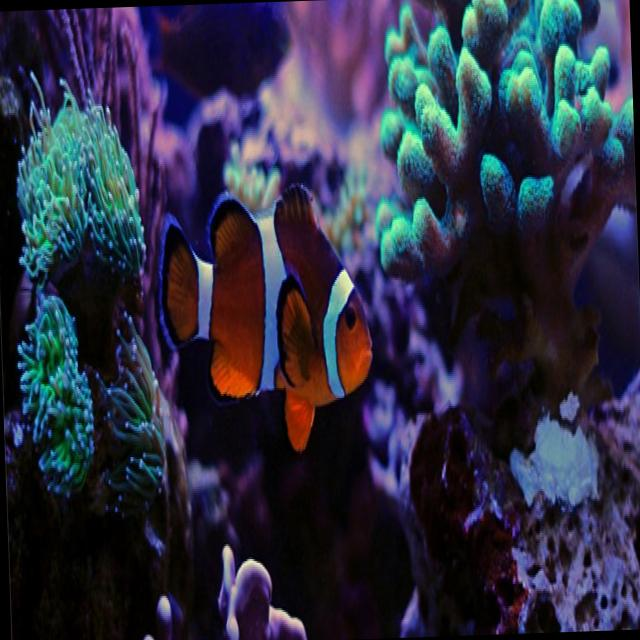ClownFish: (158, 176, 376, 448)
